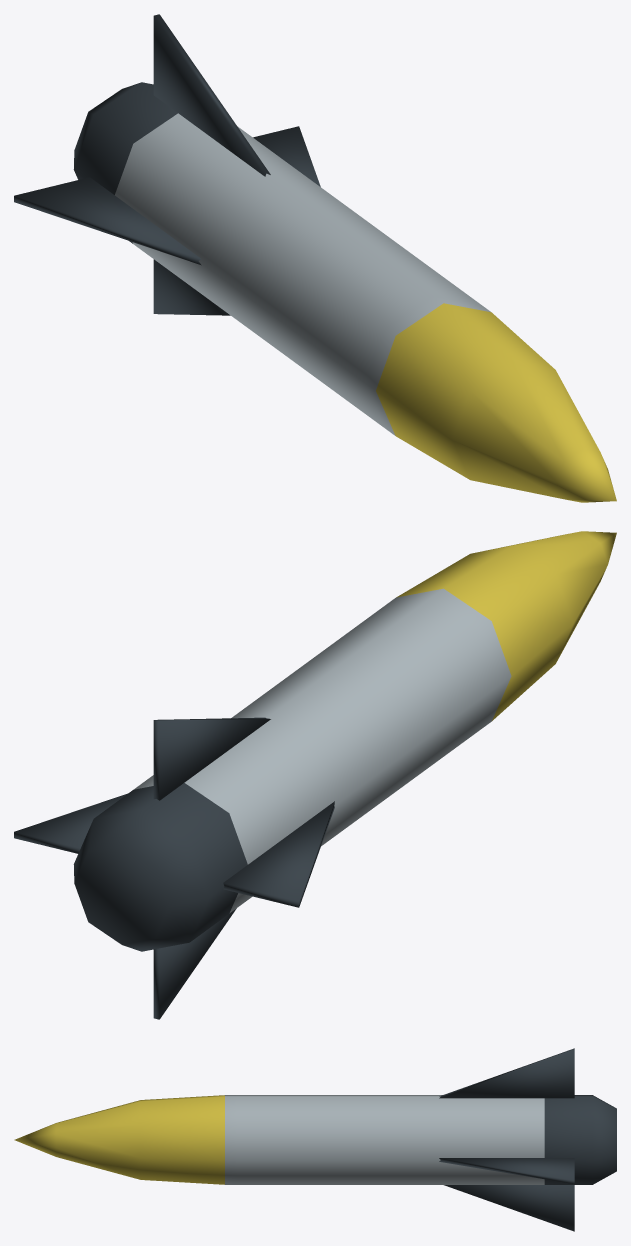
The model's file is missile_scout_projectile_game.glb.
3 views of the same model, one above another, from view 1: azimuth 30°, elevation 25°; view 2: azimuth 150°, elevation 25°; view 3: azimuth 270°, elevation 25° (orthographic). The views are drawn at different scales.
Visible parts, largest first — view 1: AMMO_MESH.056; view 2: AMMO_MESH.056; view 3: AMMO_MESH.056.
Part boxes in pixels (x1,y1,x2,y2): AMMO_MESH.056: (14,14,616,502); AMMO_MESH.056: (14,531,616,1019); AMMO_MESH.056: (14,1048,616,1231).
Size of the model in its own units: 0.399 by 0.399 by 1.2.
